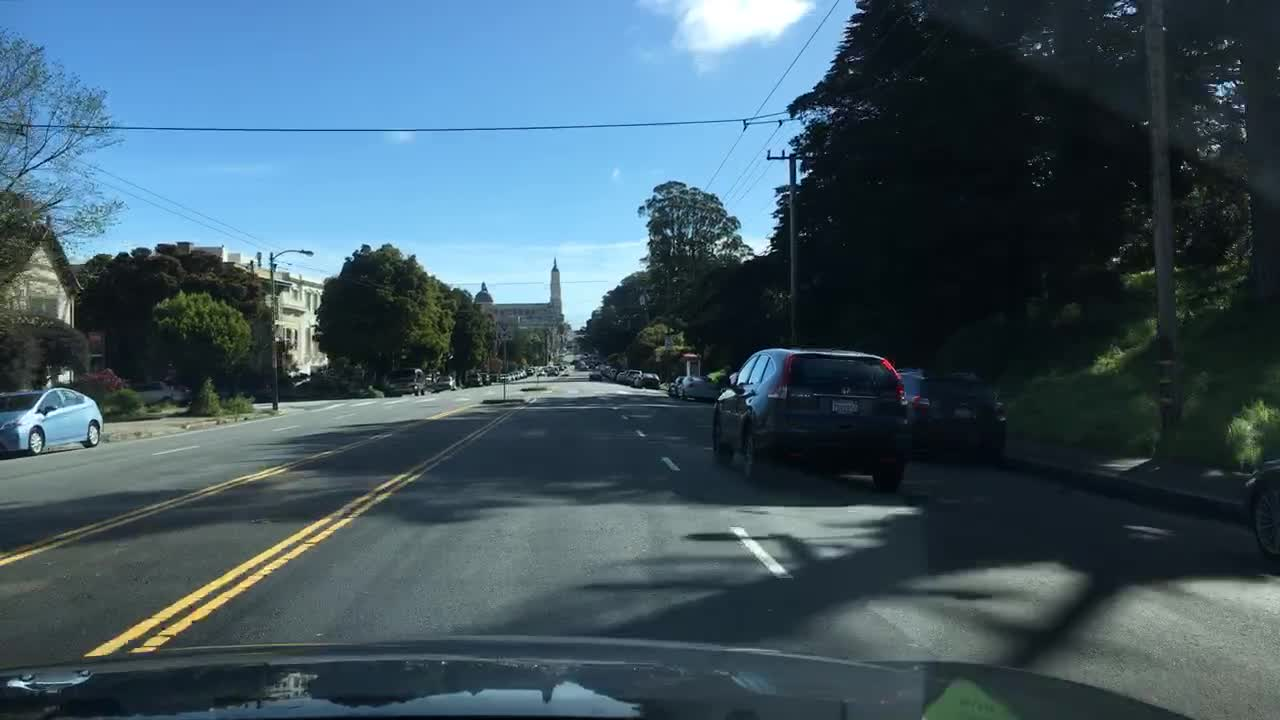car: (711, 349, 905, 491), (893, 362, 1012, 469), (1, 386, 100, 454), (1242, 457, 1278, 576), (130, 375, 196, 405), (383, 365, 425, 398), (676, 377, 723, 400), (632, 370, 661, 389), (433, 372, 455, 392), (668, 374, 686, 397), (624, 368, 642, 385), (589, 365, 605, 381), (424, 373, 441, 388), (467, 372, 482, 386), (547, 363, 561, 377), (497, 372, 513, 384), (615, 368, 626, 384), (607, 366, 618, 381), (600, 363, 611, 376), (480, 372, 491, 384), (537, 366, 546, 377), (520, 369, 529, 379), (513, 370, 520, 380)
